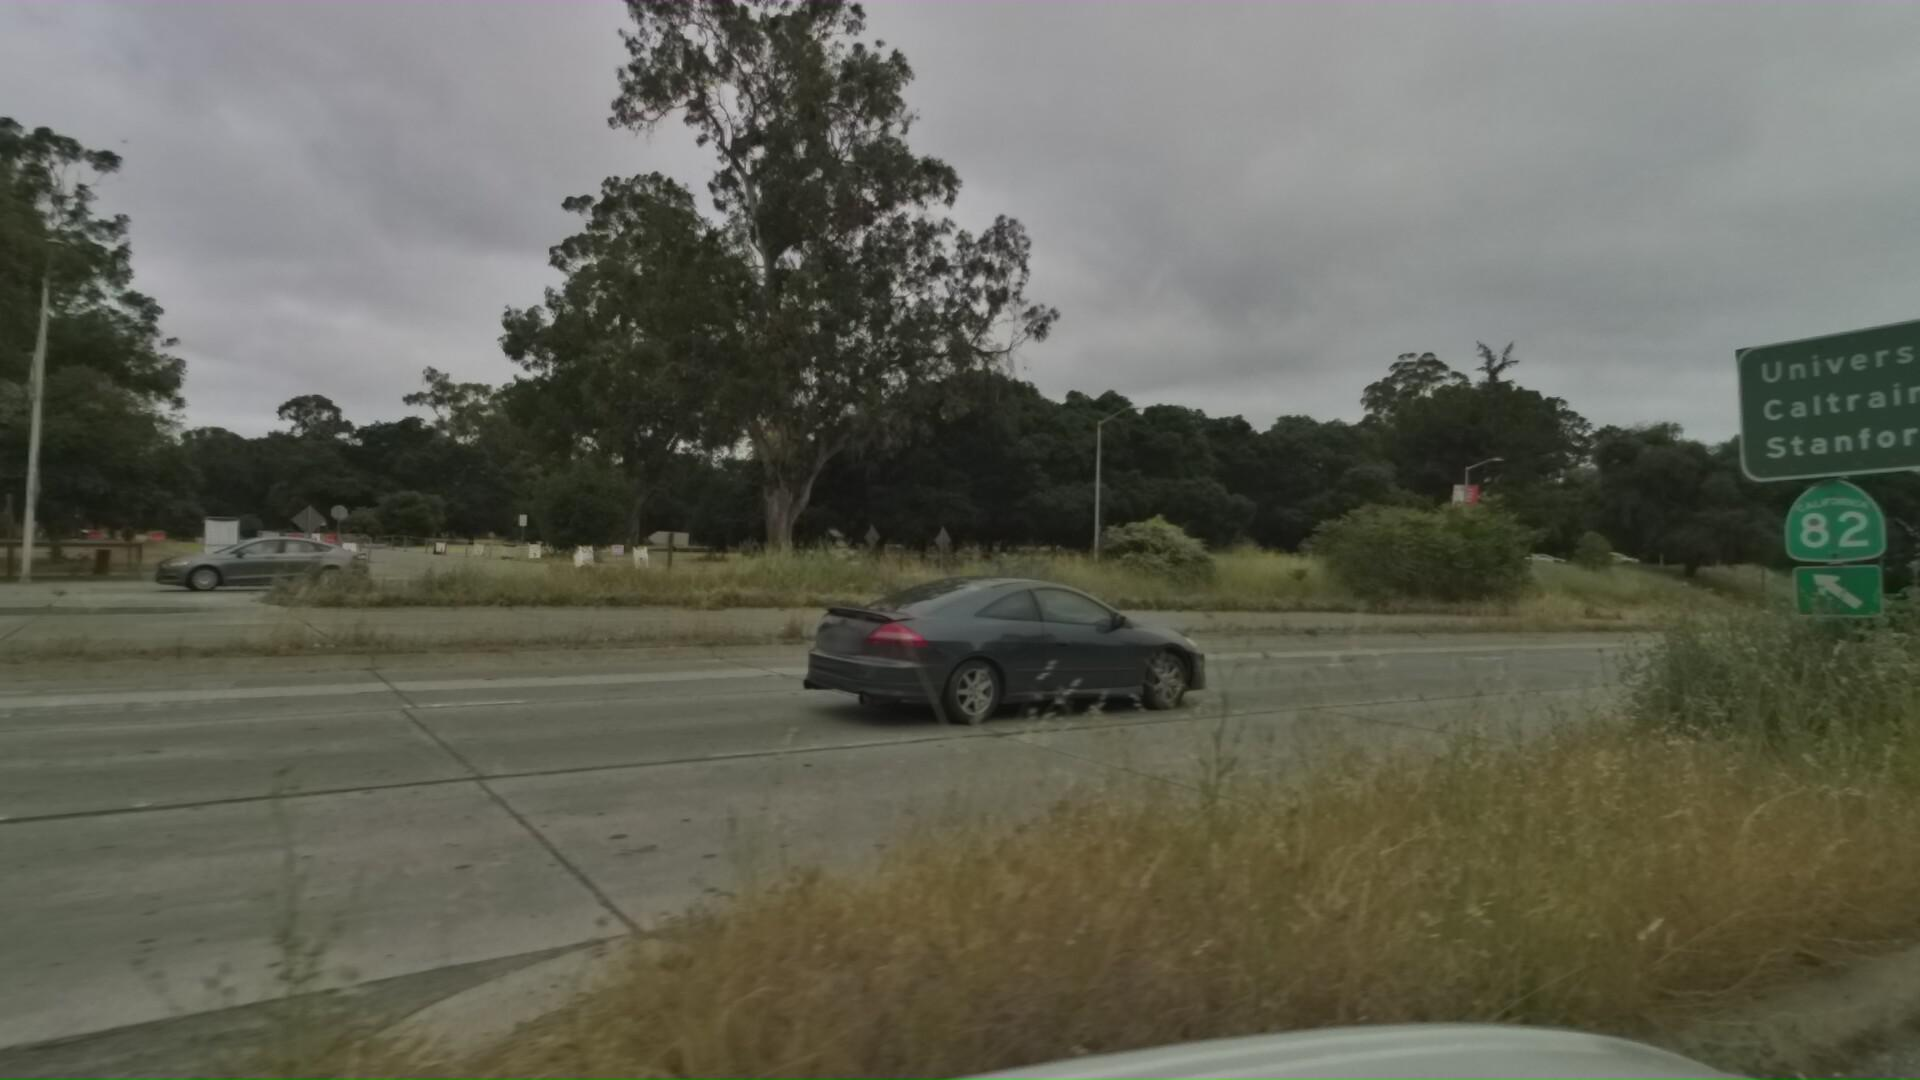car: (785, 568, 1247, 741), (105, 530, 335, 595)
